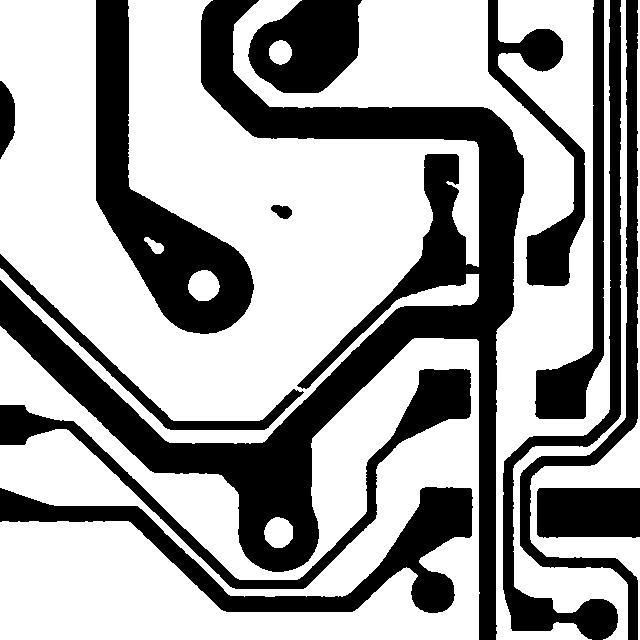copper: (261, 195, 301, 228)
mousebite: (436, 171, 471, 199)
open: (281, 373, 317, 401)
pin-hole: (134, 227, 173, 263)
short: (452, 254, 491, 283)
